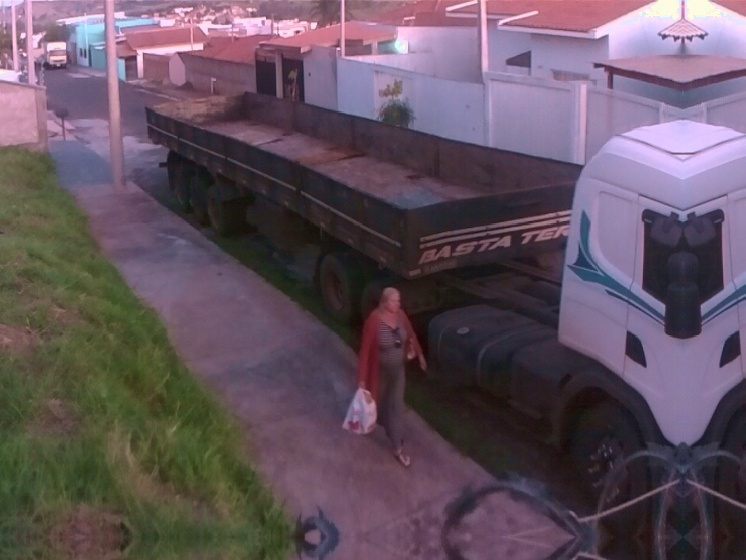person: (355, 281, 428, 472)
